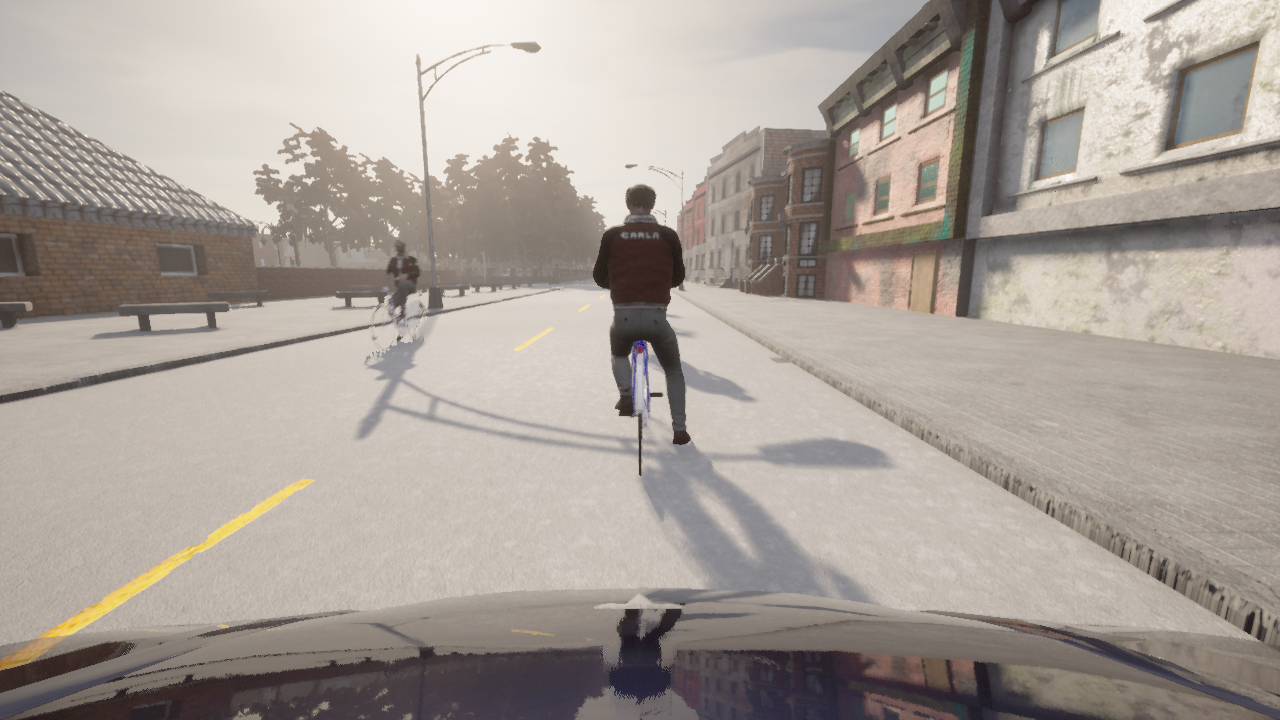cyclist: (0, 588, 1279, 719), (618, 340, 663, 475), (371, 278, 425, 350)
pedestrian: (436, 272, 442, 285), (683, 281, 684, 284)
